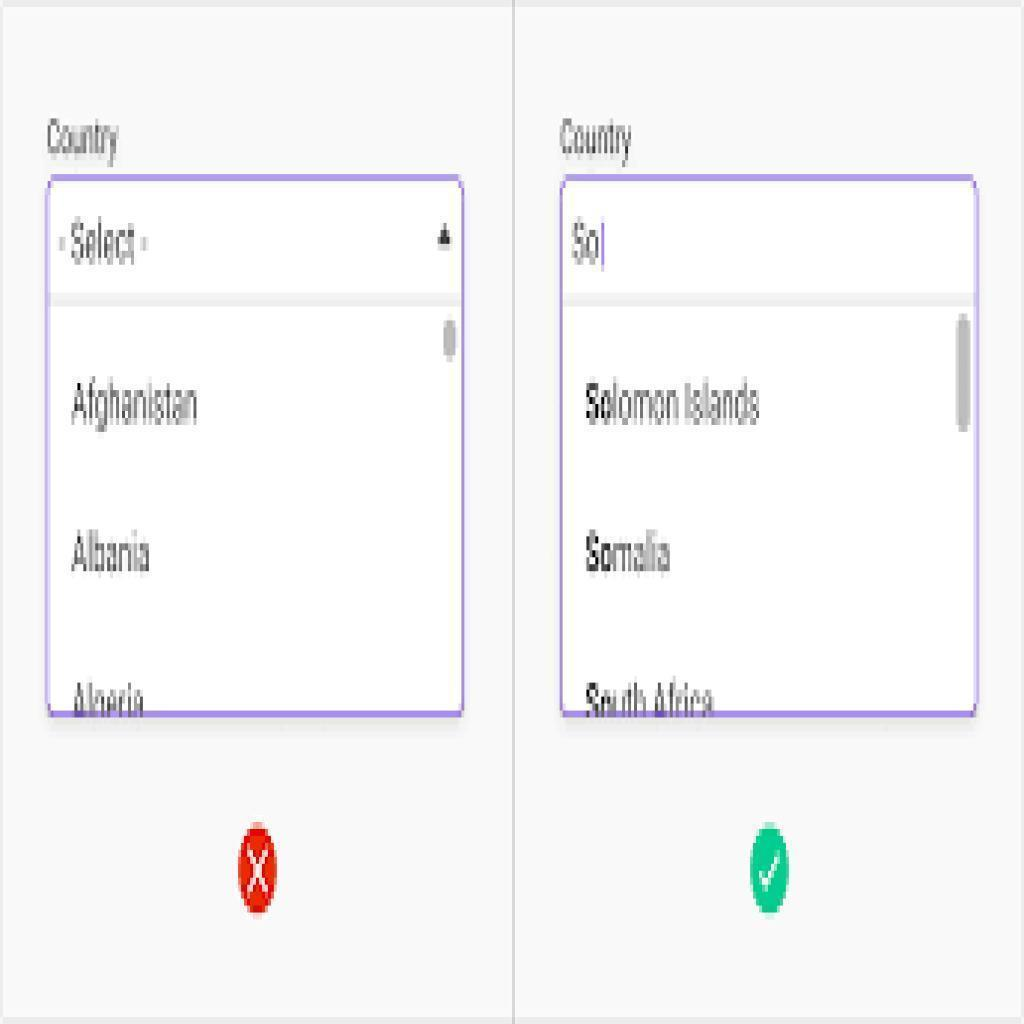checkbox: (234, 824, 278, 916), (749, 821, 789, 913)
dropdown: (48, 175, 465, 306)
input: (563, 178, 974, 299)
label: (555, 114, 639, 164), (41, 112, 123, 163)
